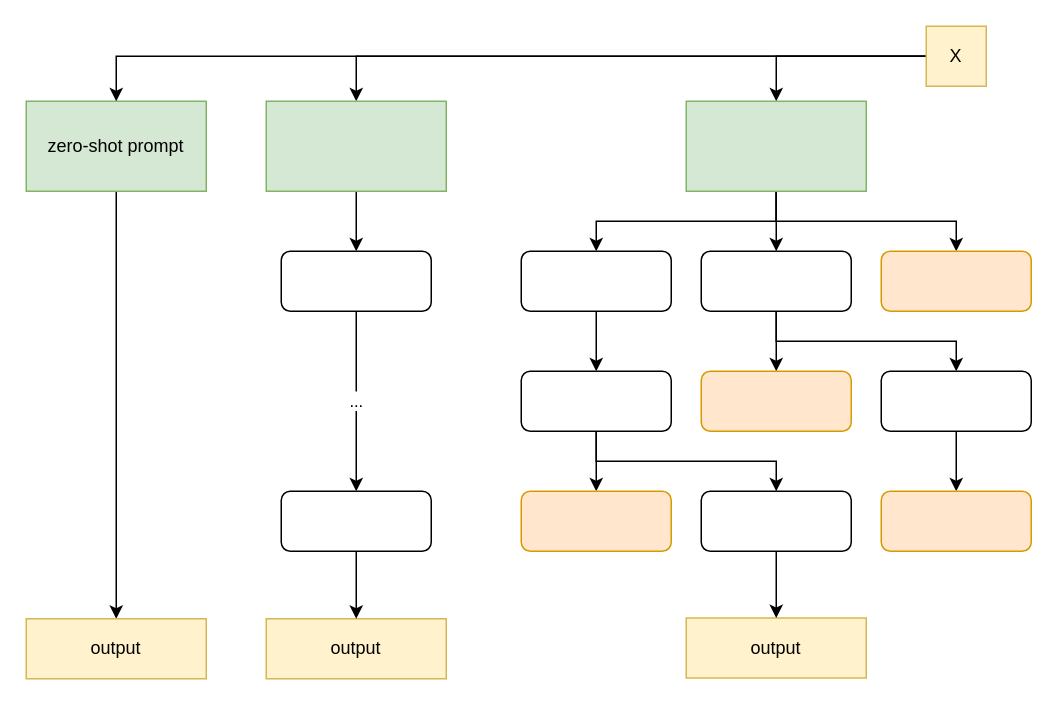
The diagram is 1058 pixels wide and 705 high, and some of its shapes have lost their labels. The box of each missing label's shape, as (x1, y1, x2, y2) in pixels:
Chain-of-Thought prompt: (265, 100, 446, 191)
Chain-of-Thought prompt with consistency: (685, 100, 866, 191)
